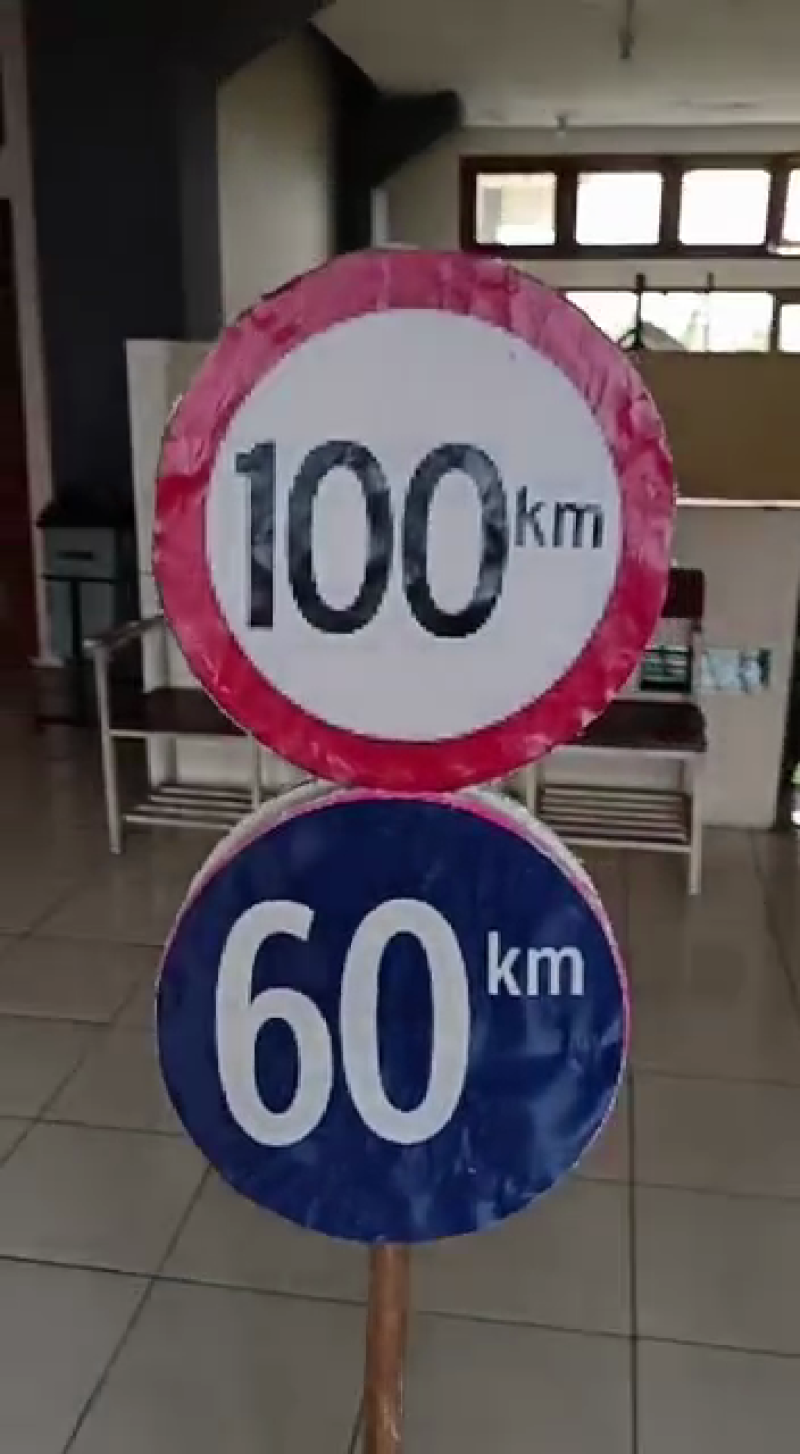batas maksimal 100kmperjam minimal 60kmperjam: (152, 229, 685, 1258)
